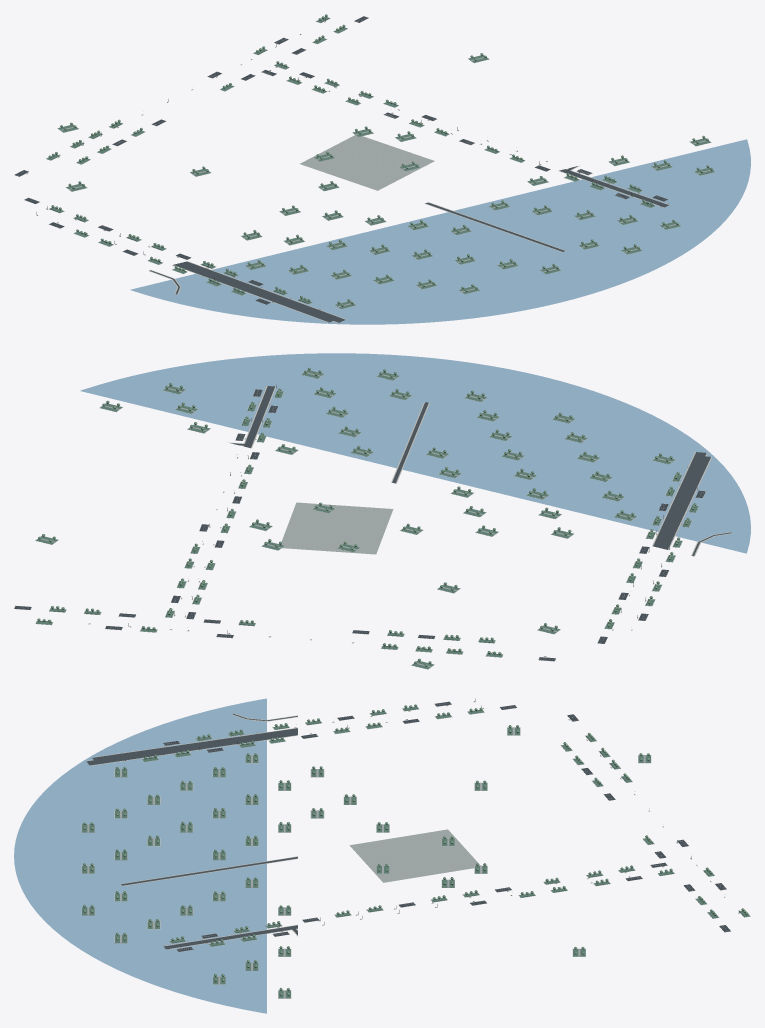
The model's file is Campus500.glb.
3 renders of one model, top to bottom at view 1: azimuth 30°, elevation 25°; view 2: azimuth 150°, elevation 25°; view 3: azimuth 270°, elevation 25°, orthographic. The views are drawn at different scales.
Visible parts, largest first — view 1: Campus_Ground, Campus_Grass, Campus_Paving, Campus_Stone, Campus_Canopy, Campus_RoadExtension, Campus_Asphalt, Campus_WalkExtension; view 2: Campus_Ground, Campus_Grass, Campus_Paving, Campus_Stone, Campus_Canopy, Campus_RoadExtension, Campus_Asphalt, Campus_WalkExtension; view 3: Campus_Ground, Campus_Grass, Campus_Paving, Campus_Stone, Campus_Canopy, Campus_RoadExtension, Campus_Asphalt, Campus_WalkExtension.
Boxes of the visible parts, x1=… form: Campus_Ground: x1=130, y1=139, x2=750, y2=324; Campus_Grass: x1=46, y1=17, x2=714, y2=308; Campus_Paving: x1=60, y1=57, x2=710, y2=307; Campus_Stone: x1=14, y1=16, x2=715, y2=309; Campus_Canopy: x1=48, y1=14, x2=712, y2=306; Campus_RoadExtension: x1=149, y1=166, x2=668, y2=322; Campus_Asphalt: x1=15, y1=16, x2=667, y2=304; Campus_WalkExtension: x1=149, y1=165, x2=669, y2=322; Campus_Ground: x1=80, y1=353, x2=750, y2=553; Campus_Grass: x1=36, y1=370, x2=698, y2=669; Campus_Paving: x1=41, y1=372, x2=672, y2=667; Campus_Stone: x1=14, y1=369, x2=705, y2=669; Campus_Canopy: x1=37, y1=367, x2=696, y2=666; Campus_RoadExtension: x1=230, y1=386, x2=731, y2=556; Campus_Asphalt: x1=14, y1=389, x2=705, y2=661; Campus_WalkExtension: x1=227, y1=386, x2=731, y2=556; Campus_Ground: x1=14, y1=698, x2=266, y2=1013; Campus_Grass: x1=82, y1=707, x2=749, y2=998; Campus_Paving: x1=87, y1=727, x2=645, y2=998; Campus_Stone: x1=81, y1=701, x2=750, y2=998; Campus_Canopy: x1=83, y1=704, x2=747, y2=995; Campus_RoadExtension: x1=86, y1=713, x2=297, y2=949; Campus_Asphalt: x1=163, y1=701, x2=730, y2=951; Campus_WalkExtension: x1=86, y1=713, x2=297, y2=949.
Bounding box in the file's own units: 1003 × 6.54 × 991.
